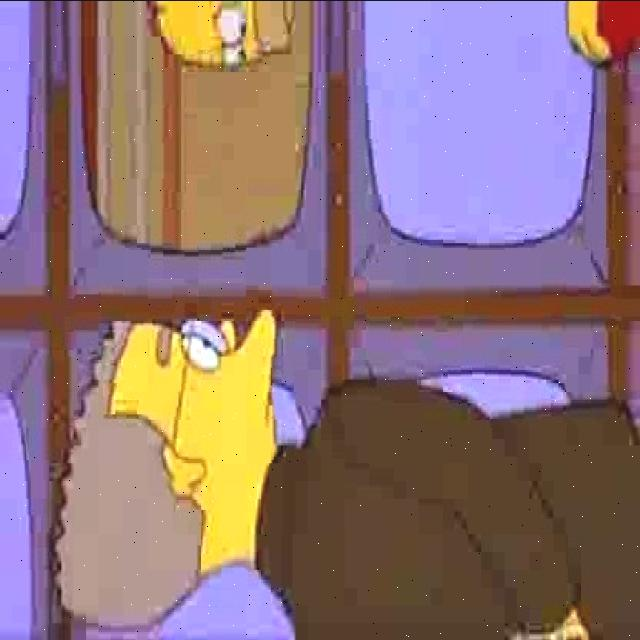Homer Simpson: (152, 0, 303, 71)
